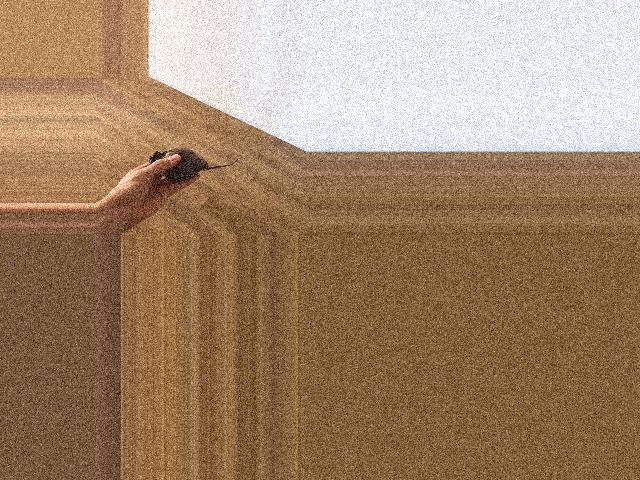beet: (149, 148, 238, 180)
